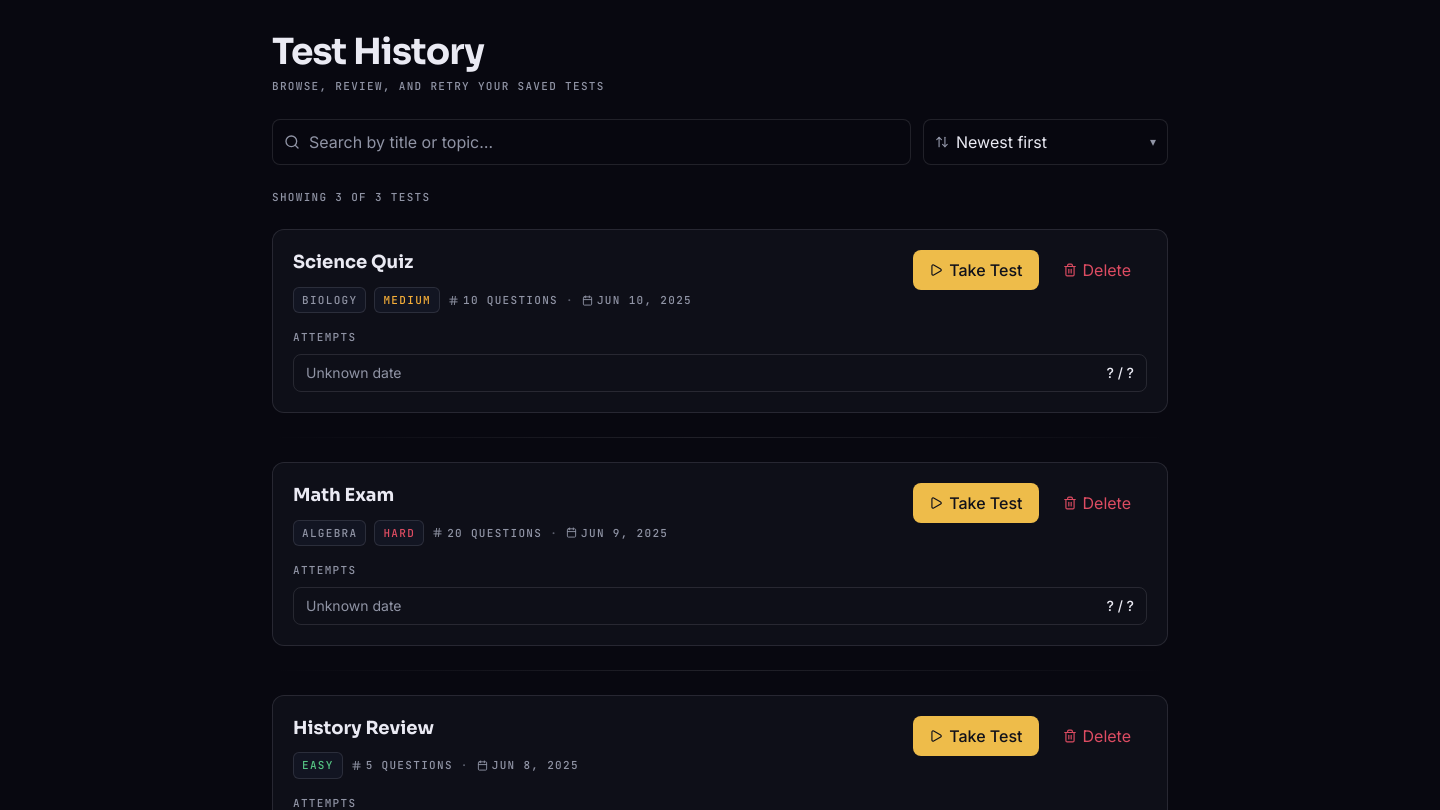
Scenario: TestHistory › opens delete confirmation modal
Expected: the heading "Science Quiz" is shown, [293,251,413,273]
Click the button "Delete" in the row of "Science Quiz".
click(1097, 270)  # box [1046,250,1147,290]
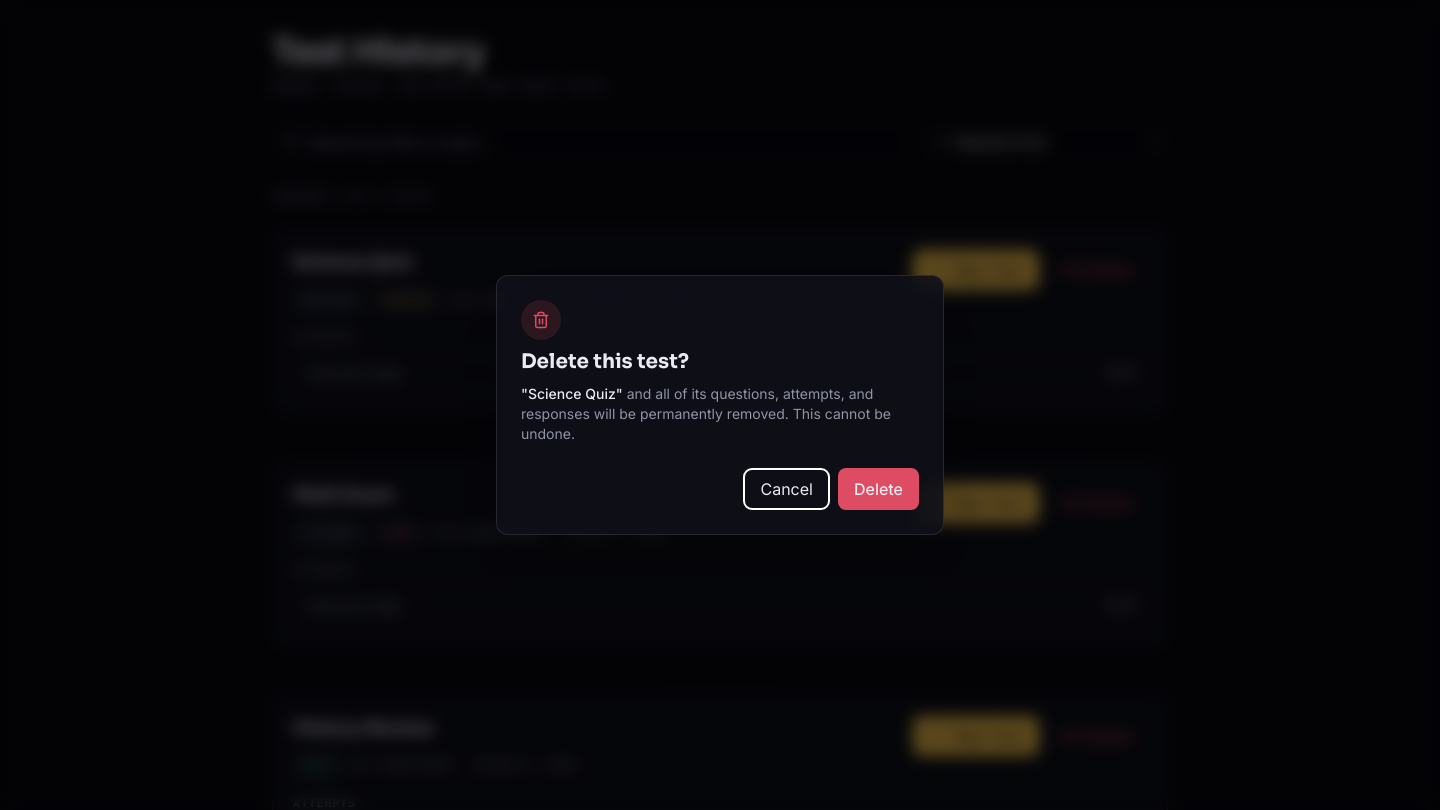
Expected: the heading "Delete this test?" is shown, [521,349,689,374]
